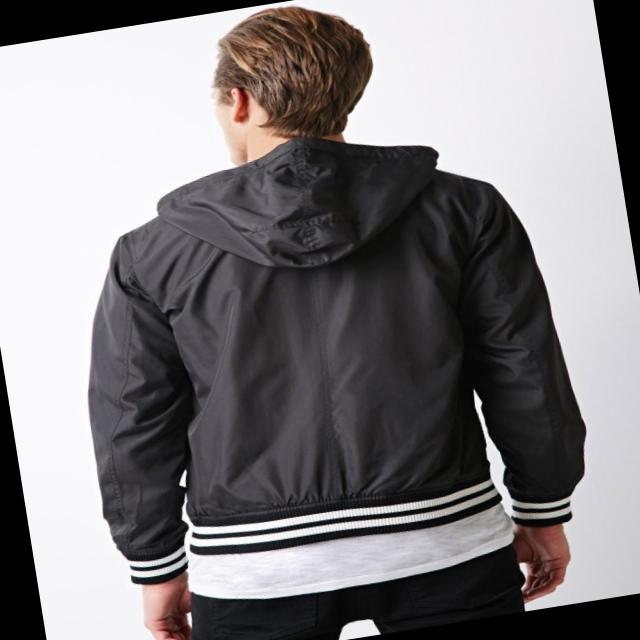Jacket: (35, 115, 610, 591)
